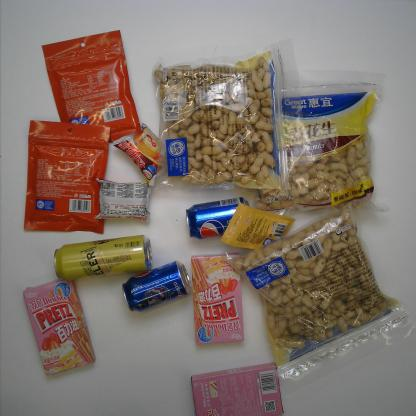Alcohol: (53, 234, 153, 281)
Dessert: (22, 278, 96, 376), (190, 362, 285, 416), (191, 252, 244, 344), (113, 122, 168, 187), (94, 178, 152, 223)
Dried Food: (218, 201, 416, 395), (151, 38, 309, 195), (252, 69, 390, 214)
Dried Fruit: (41, 30, 142, 144), (24, 119, 110, 233)
Drink: (122, 260, 192, 312), (185, 197, 250, 240)
Seasoner: (220, 202, 296, 250)
